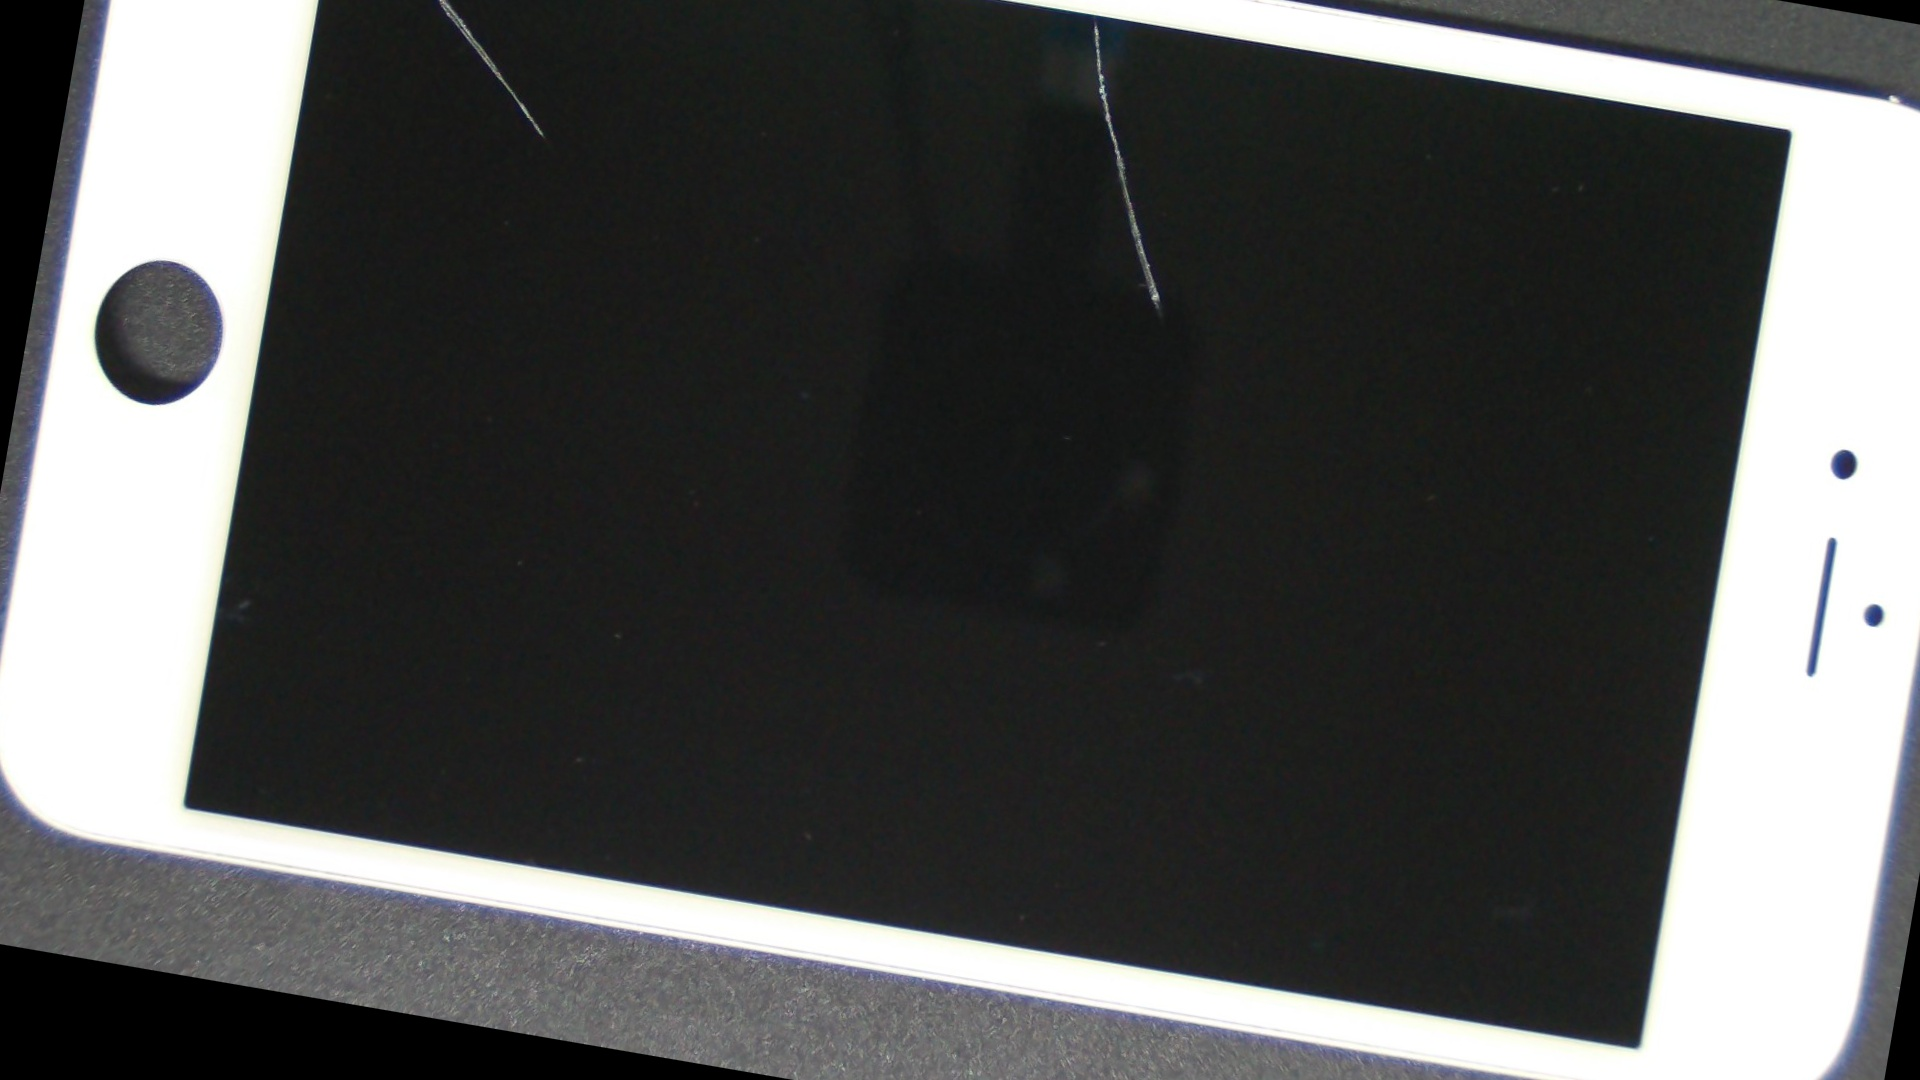oil: (591, 0, 1597, 173)
